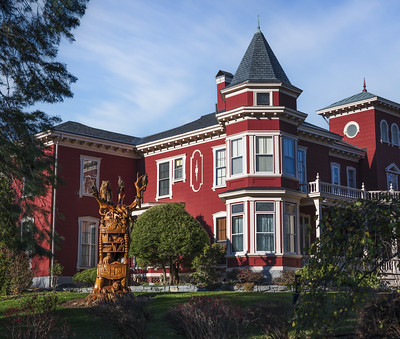high: (5, 41, 396, 287)
